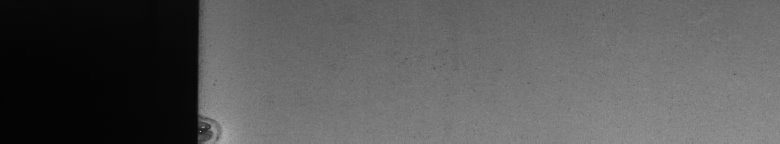hb: (208, 112, 228, 136)
